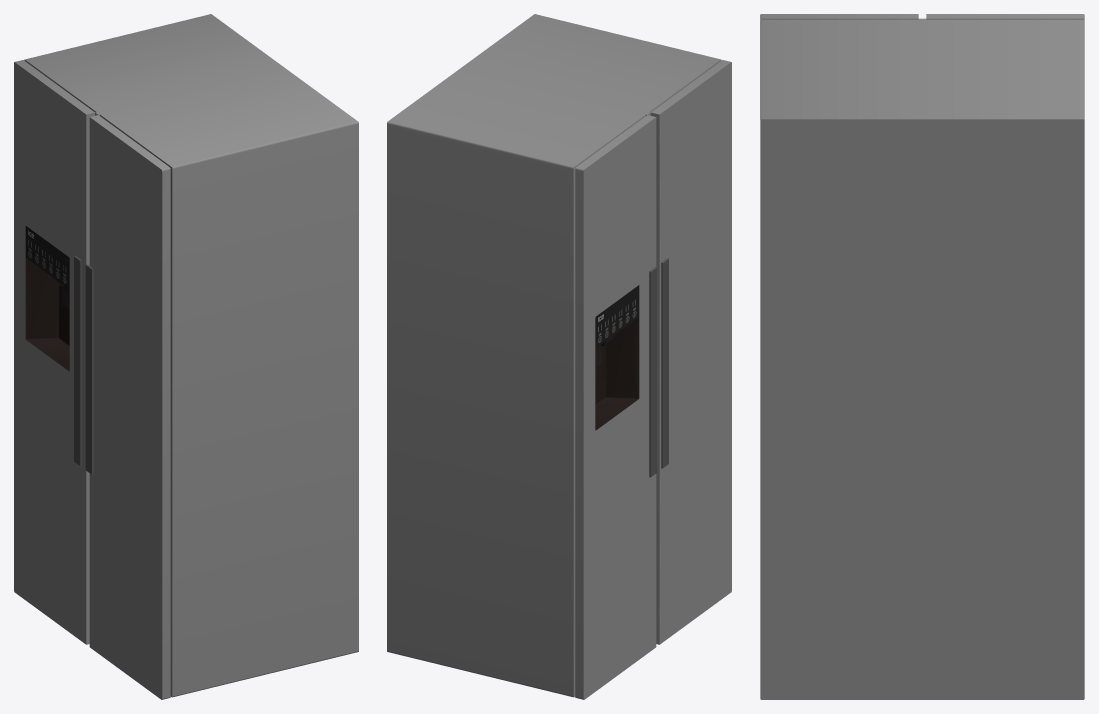
File: modern_fridge.0508f326.glb
The picture shows the model from 3 angles, left to right: view 1: azimuth 30°, elevation 25°; view 2: azimuth 150°, elevation 25°; view 3: azimuth 270°, elevation 25°; orthographic projection. The views are drawn at different scales.
Visible parts, largest first — view 1: Modern; view 2: Modern; view 3: Modern.
Part boxes in pixels (x1=…): Modern: x1=14, y1=14, x2=358, y2=699; Modern: x1=387, y1=14, x2=731, y2=699; Modern: x1=760, y1=14, x2=1084, y2=699.
Bounding box in the file's own units: 0.7676 × 1.94 × 0.9834.
4 materials, 3 textured.
